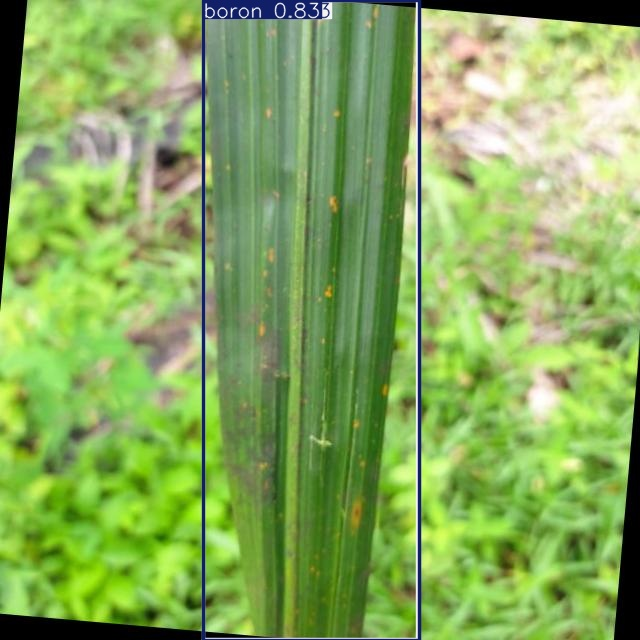Kalium: (204, 0, 418, 639)
nitrogen: (203, 0, 420, 640)
